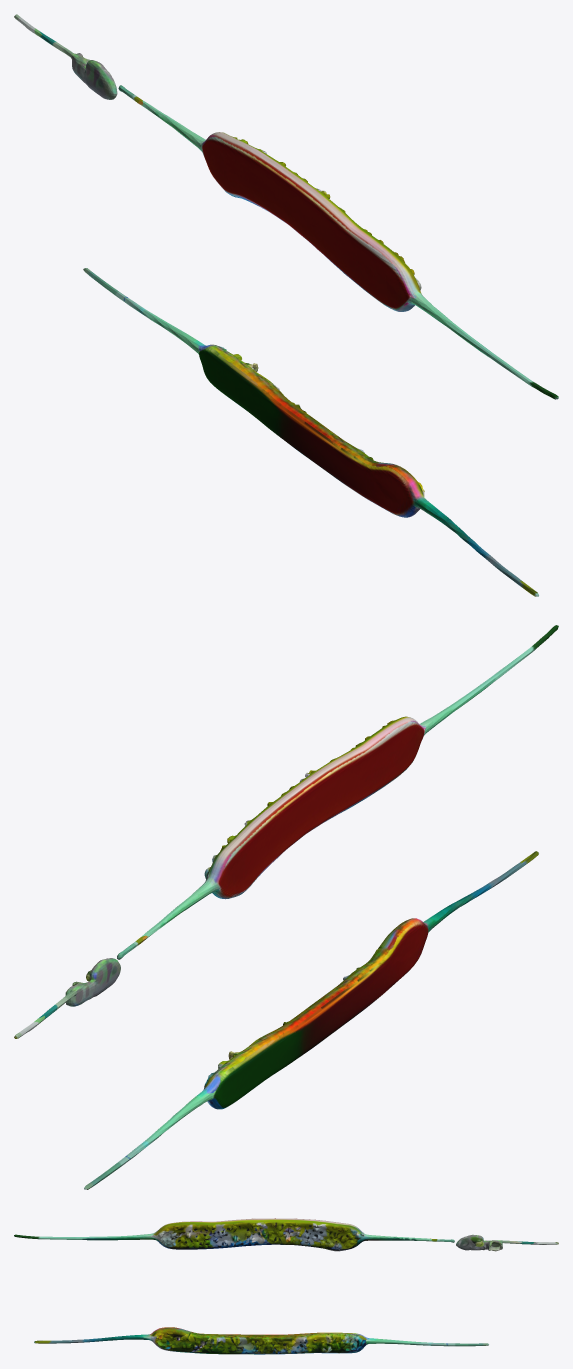
The model's file is Xanthophyta3D.glb.
3 renders of one model, top to bottom at view 1: azimuth 30°, elevation 25°; view 2: azimuth 150°, elevation 25°; view 3: azimuth 270°, elevation 25°, orthographic. The views are drawn at different scales.
Parts seen in each view (by area): view 1: tripo_node_e04e3fb5-f1c5-452b-b0fe-3d7bcd6ae8af; view 2: tripo_node_e04e3fb5-f1c5-452b-b0fe-3d7bcd6ae8af; view 3: tripo_node_e04e3fb5-f1c5-452b-b0fe-3d7bcd6ae8af.
Boxes of the visible parts, left/top/right/bottom form: tripo_node_e04e3fb5-f1c5-452b-b0fe-3d7bcd6ae8af: left=14, top=14, right=558, bottom=596; tripo_node_e04e3fb5-f1c5-452b-b0fe-3d7bcd6ae8af: left=14, top=625, right=558, bottom=1189; tripo_node_e04e3fb5-f1c5-452b-b0fe-3d7bcd6ae8af: left=14, top=1218, right=558, bottom=1354.
Size of the model in its own units: 0.0275 by 0.273 by 1.
1 material, 1 textured.
